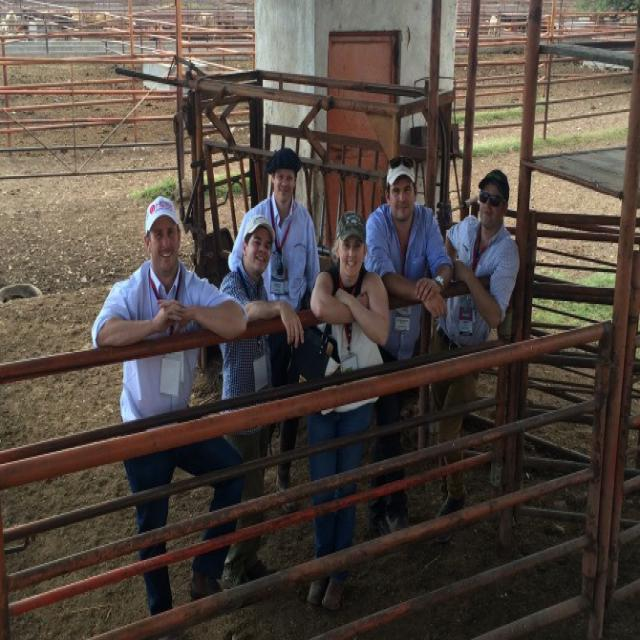body: (89, 192, 250, 620), (225, 144, 323, 515), (304, 209, 391, 614), (363, 157, 455, 534), (217, 214, 304, 583), (431, 167, 521, 522)
